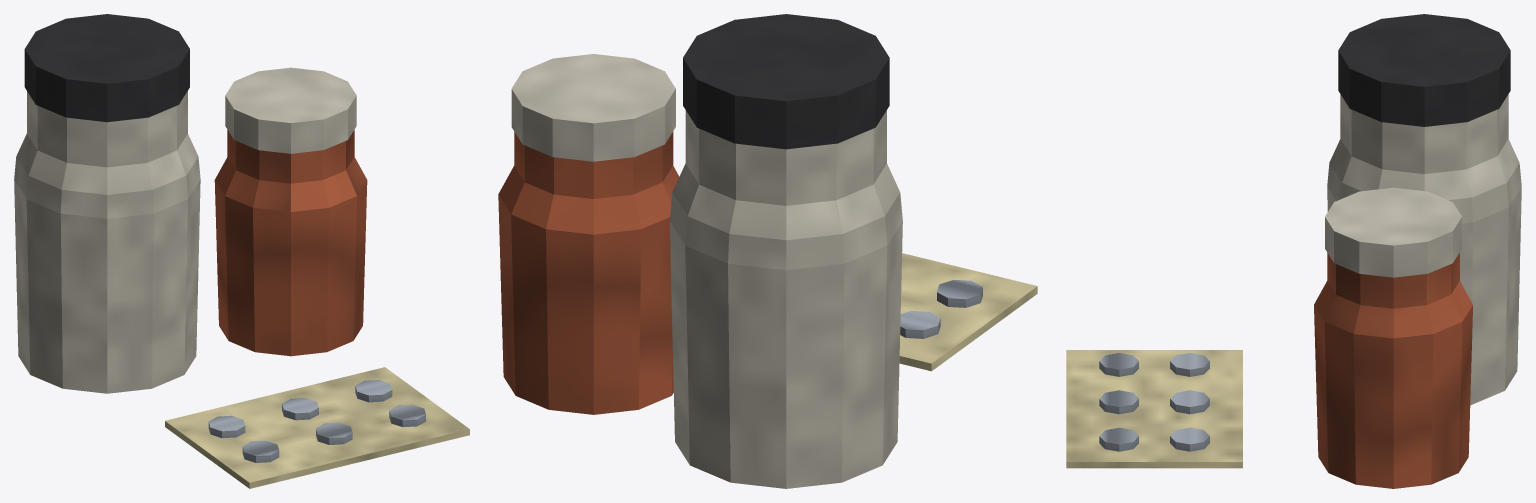
File: medicine_bottles.fbx
The picture shows the model from 3 angles, left to right: view 1: azimuth 30°, elevation 25°; view 2: azimuth 150°, elevation 25°; view 3: azimuth 270°, elevation 25°; orthographic projection. The views are drawn at different scales.
Parts seen in each view (by area): view 1: medicine_bottles; view 2: medicine_bottles; view 3: medicine_bottles.
Boxes of the visible parts, x1=… form: medicine_bottles: x1=14, y1=14, x2=469, y2=488; medicine_bottles: x1=498, y1=14, x2=1037, y2=488; medicine_bottles: x1=1066, y1=14, x2=1521, y2=488.
Size of the model in its own units: 8.6 by 8 by 10.3.
